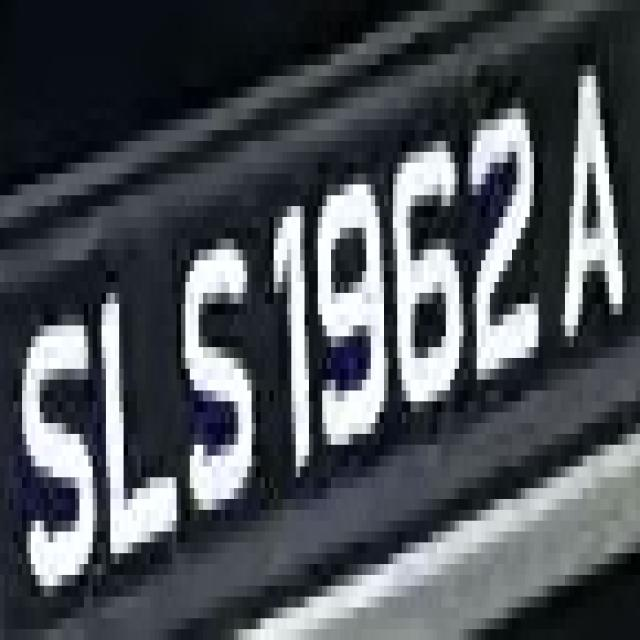1: (265, 152, 322, 499)
2: (463, 65, 548, 423)
6: (380, 130, 472, 412)
9: (300, 152, 389, 488)
A: (543, 32, 635, 390)
L: (88, 271, 177, 564)
S: (5, 271, 97, 608), (168, 250, 256, 542)
